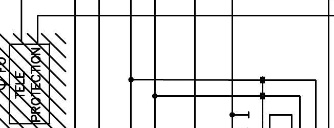tele_protection: (8, 42, 52, 126)
